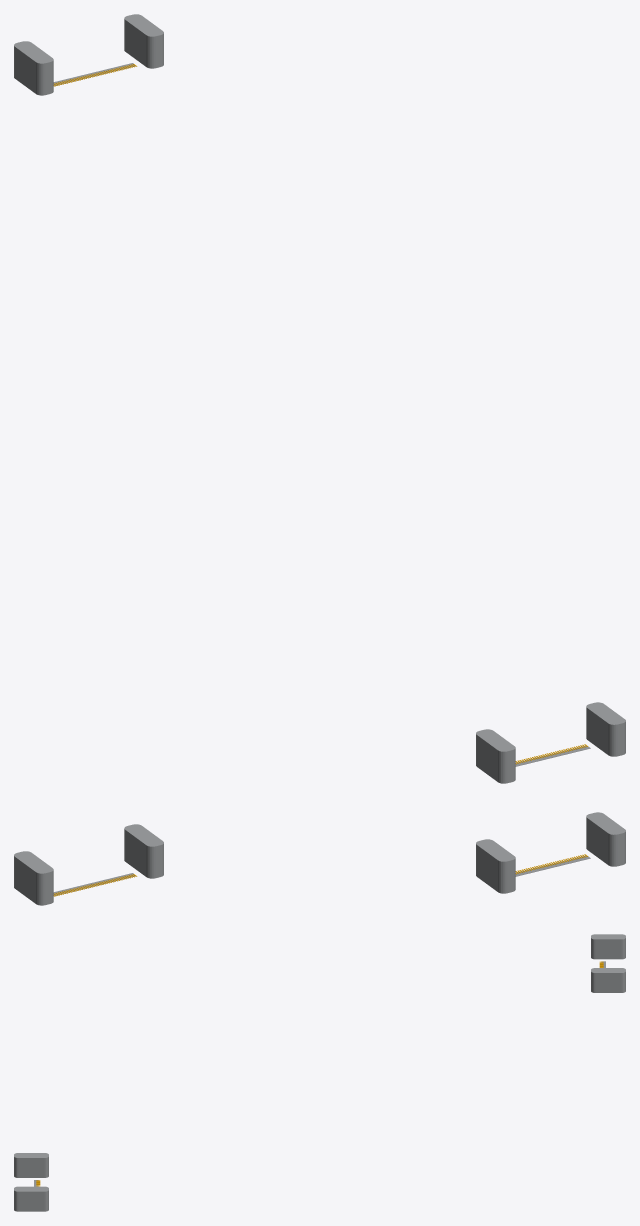
File: gteki_escalator_dress_s1000_r4000_comb_newel.glb
3 renders of one model, top to bottom at view 1: azimuth 30°, elevation 25°; view 2: azimuth 210°, elevation 25°; view 3: azimuth 270°, elevation 25°, orthographic. The views are drawn at different scales.
Visible parts, largest first — view 1: VIS_body; view 2: VIS_body; view 3: VIS_body.
Boxes of the visible parts, x1=… form: VIS_body: x1=14, y1=14, x2=625, y2=783; VIS_body: x1=14, y1=812, x2=625, y2=905; VIS_body: x1=14, y1=934, x2=625, y2=1211.
Size of the model in its own units: 1.52 by 4.38 by 10.15.
1 material, 1 textured.
